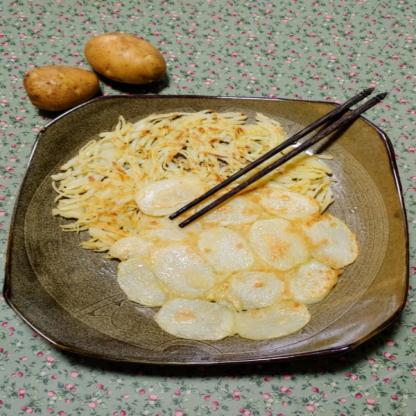potato: (80, 22, 179, 90), (27, 46, 128, 107)
